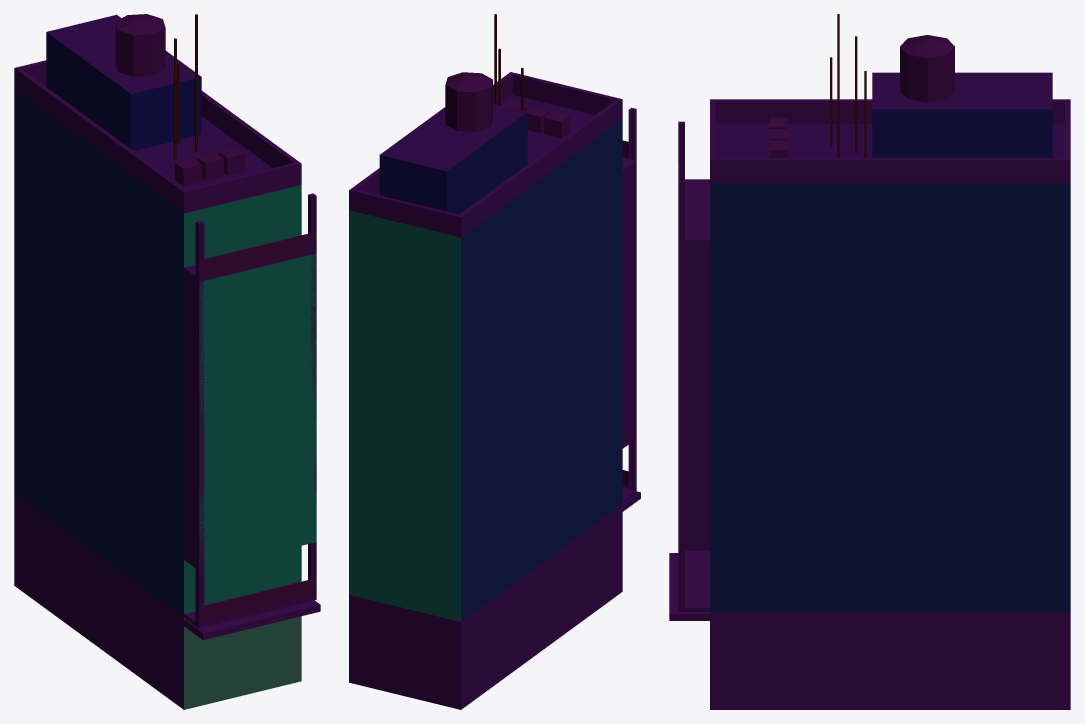
File: walkup_b.lod1.glb
3 renders of one model, left to right at view 1: azimuth 30°, elevation 25°; view 2: azimuth 150°, elevation 25°; view 3: azimuth 270°, elevation 25°, orthographic. The views are drawn at different scales.
Visible parts, largest first — view 1: walkup_b.lod1; view 2: walkup_b.lod1; view 3: walkup_b.lod1.
Part boxes in pixels (x1,y1,x2,y2): walkup_b.lod1: [14, 14, 320, 709]; walkup_b.lod1: [349, 14, 640, 709]; walkup_b.lod1: [669, 14, 1070, 709].
Size of the model in its own units: 6.4 by 32.9 by 17.8.
